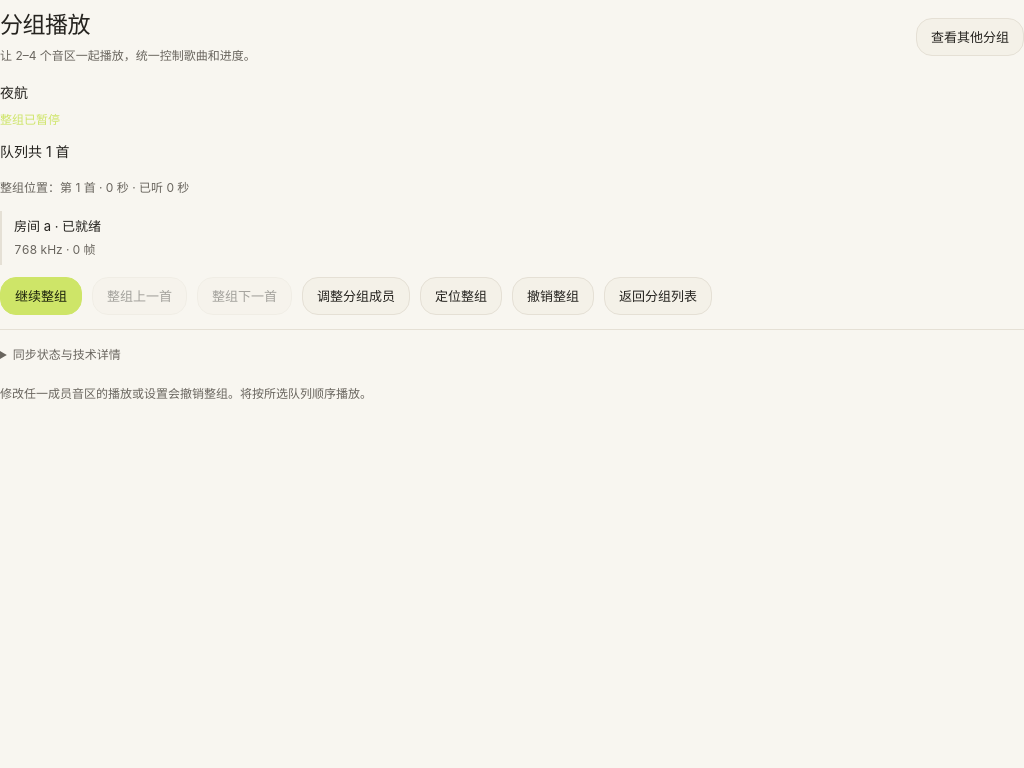
Test case: 分组播放 › 新版分组改组拒绝旧计时端点，不能提交不兼容成员
Later steps or results of the test are not shown.
Click the button "调整分组成员" at (356,296), box [302,277,410,316]
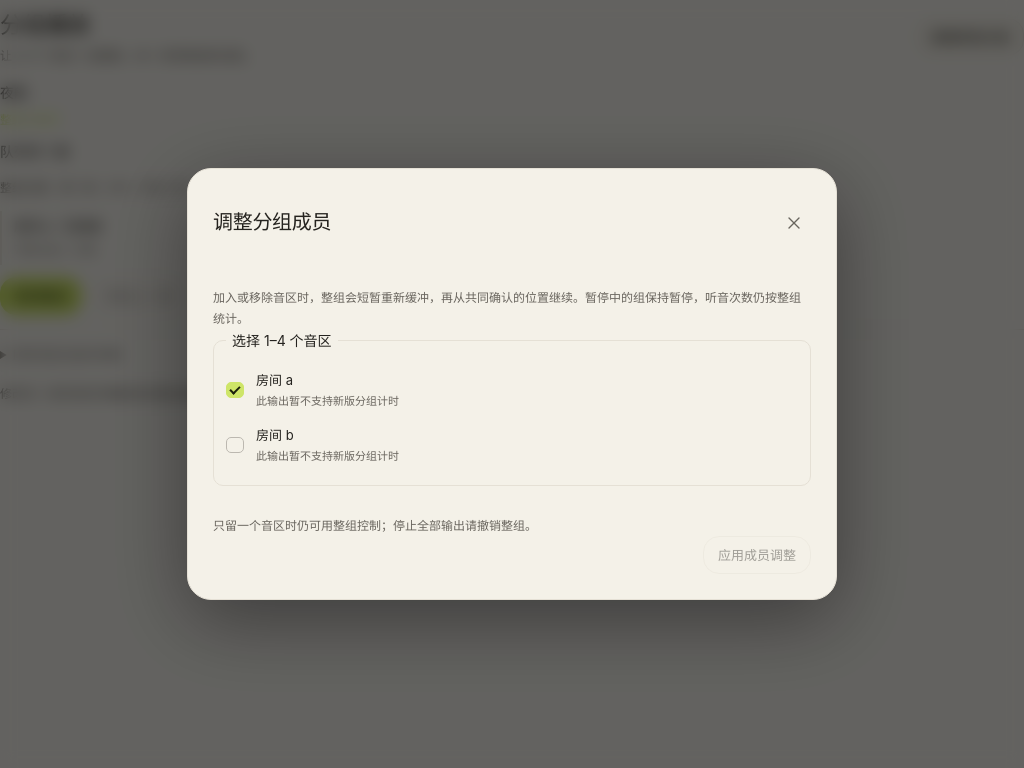
Expected: the checkbox labelled "房间 b 此输出暂不支持新版分组计时" is disabled, [226,437,244,453]
Expected: the text "此输出暂不支持新版分组计时" is shown, [256,393,399,410]
